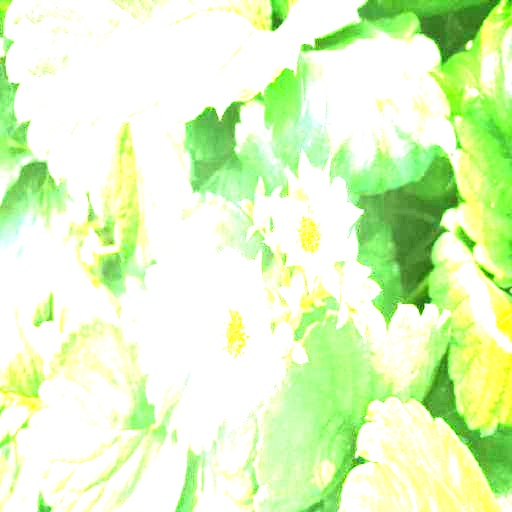Blossom Blight: (280, 202, 335, 266)
